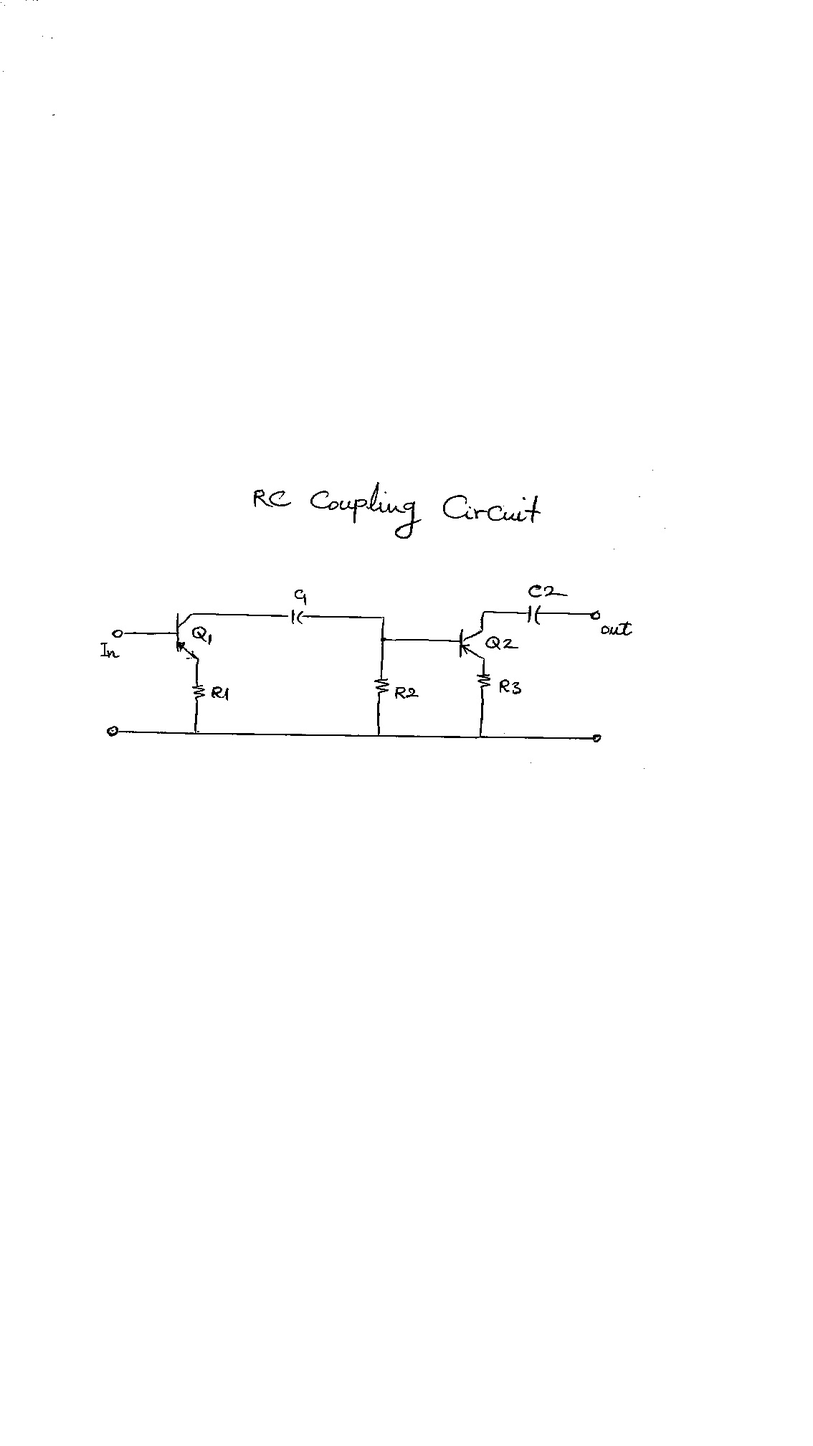capacitor.unpolarized: (523, 602, 543, 626), (286, 608, 310, 627)
junction: (192, 728, 200, 737), (375, 731, 384, 739), (379, 635, 387, 643), (475, 733, 485, 739), (480, 609, 488, 615), (379, 615, 387, 621)
resistor: (373, 675, 391, 698), (475, 671, 493, 692), (191, 681, 206, 703)
terminal: (105, 724, 120, 737), (111, 628, 127, 639), (589, 609, 602, 620), (591, 732, 602, 744)
text: (252, 479, 541, 541), (527, 583, 569, 600), (600, 620, 633, 638), (190, 625, 214, 647), (485, 635, 518, 651), (498, 678, 522, 696), (99, 641, 120, 660), (210, 685, 231, 703), (393, 685, 420, 699), (293, 587, 309, 606)
transistor.bjt: (173, 610, 203, 662), (457, 625, 488, 662)
